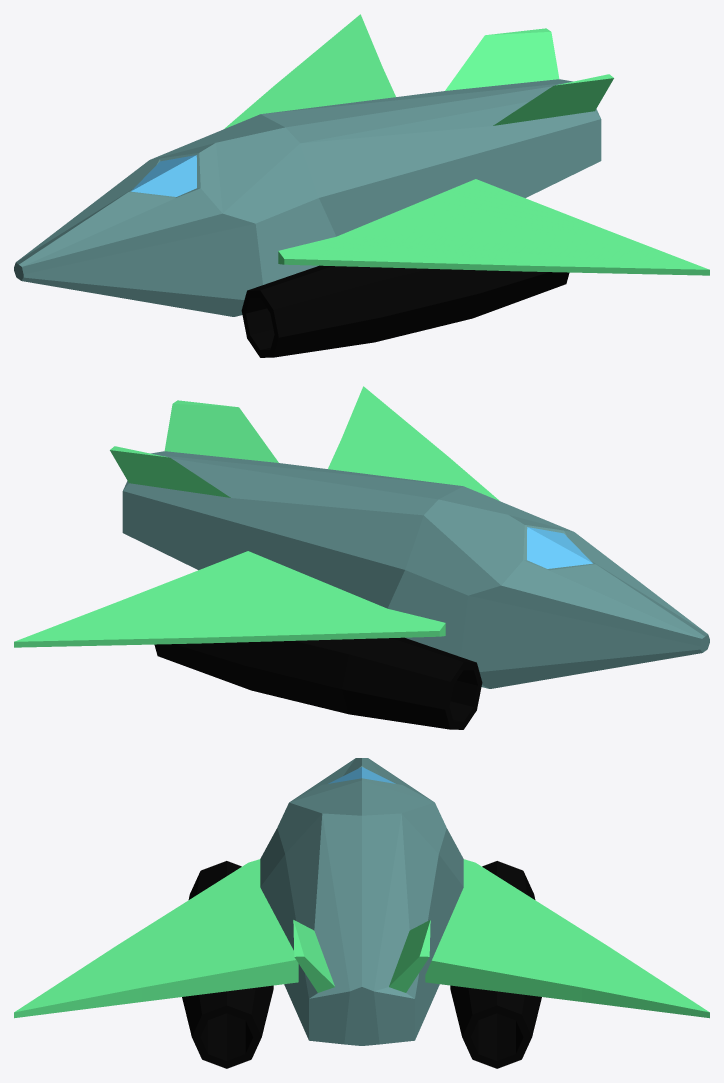
Rendered from explorer5.fbx.
3 views of the same model, one above another, from view 1: azimuth 30°, elevation 25°; view 2: azimuth 150°, elevation 25°; view 3: azimuth 270°, elevation 25° (orthographic).
Visible parts, largest first — view 1: Explorer5; view 2: Explorer5; view 3: Explorer5.
Part boxes in pixels (bbox=[...]): Explorer5: bbox=[14, 14, 709, 357]; Explorer5: bbox=[14, 386, 709, 729]; Explorer5: bbox=[14, 758, 709, 1068].
Bounding box in the file's own units: 520 × 156 × 558.
